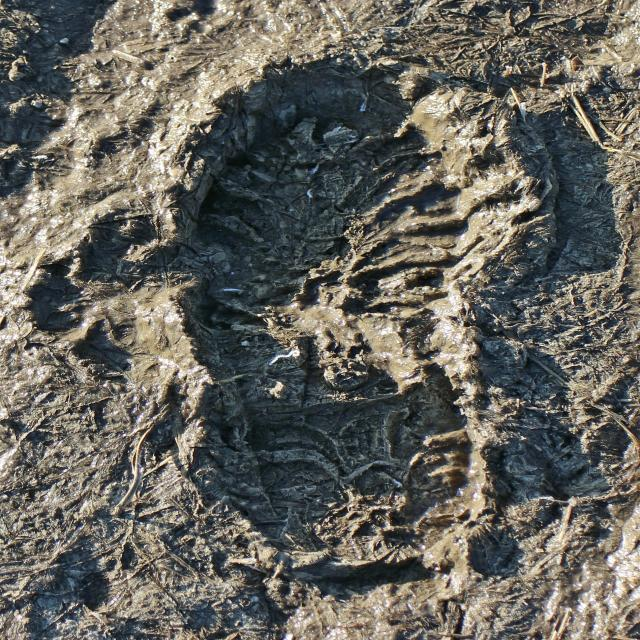human_footprint: (113, 34, 553, 588)
